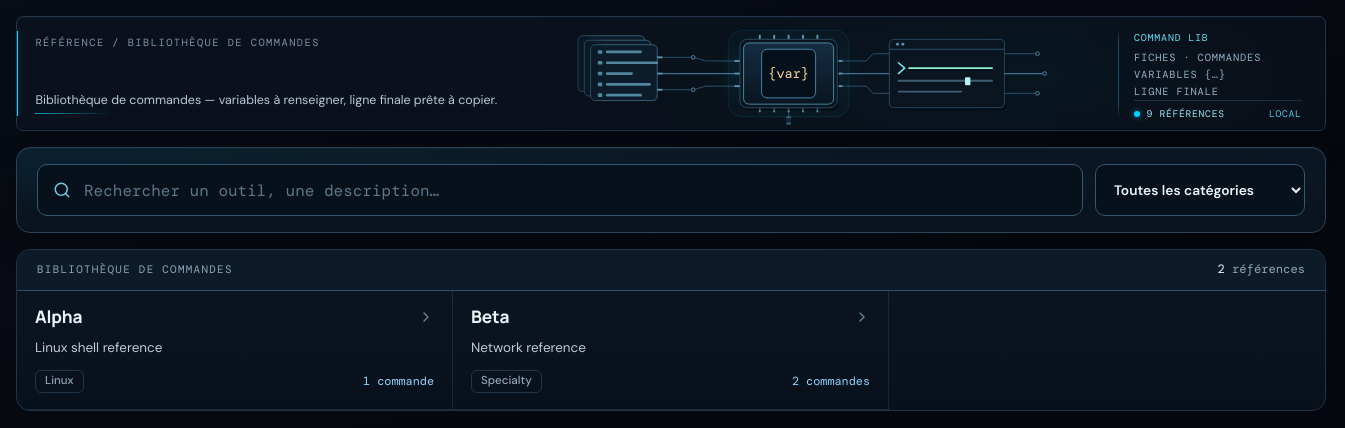
CheatsheetsPage › loads summaries, derives categories, filters and resets combined search/category state
Expected: the text "Alpha" is shown, [35,307,82,328]
Expected: the text "9 RÉFÉRENCES" is shown, [1134,108,1225,120]
Type "network" into the search field.
click(560, 190); type("network")  # box [37,164,1083,216]
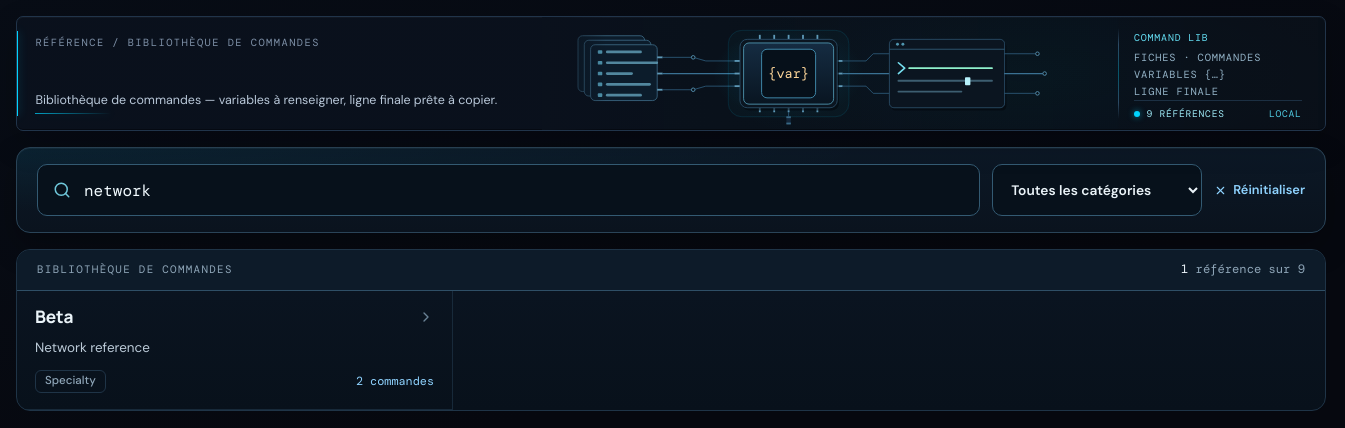
Select "Specialty" in the dropdown at (1097, 190), box [992,164,1202,216]
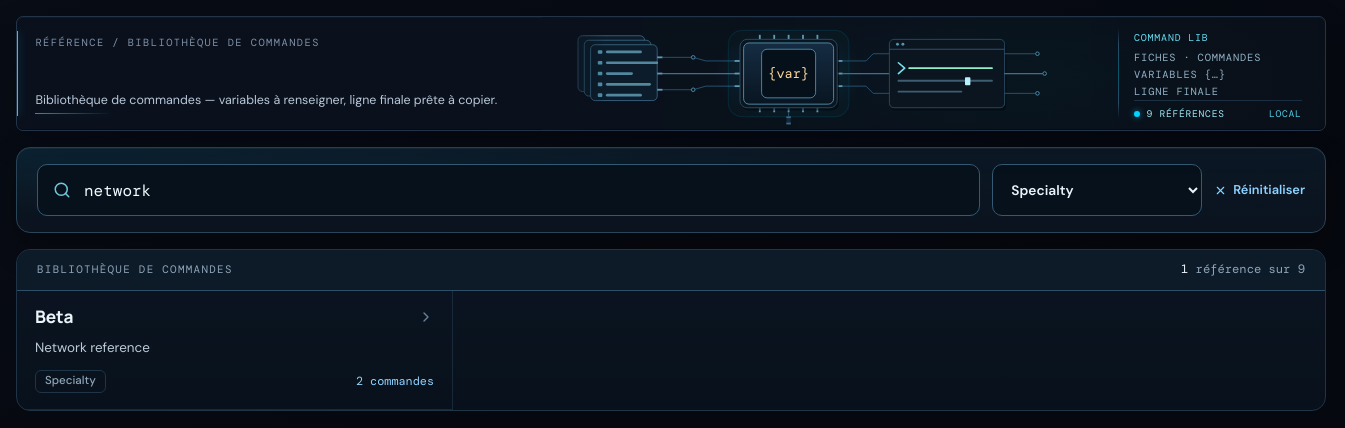
Expected: the text "Beta" is shown, [35,307,73,328]
Expected: the button "Alpha" is not shown
Click the button "Réinitialiser".
click(1260, 190)  # box [1214,182,1305,198]
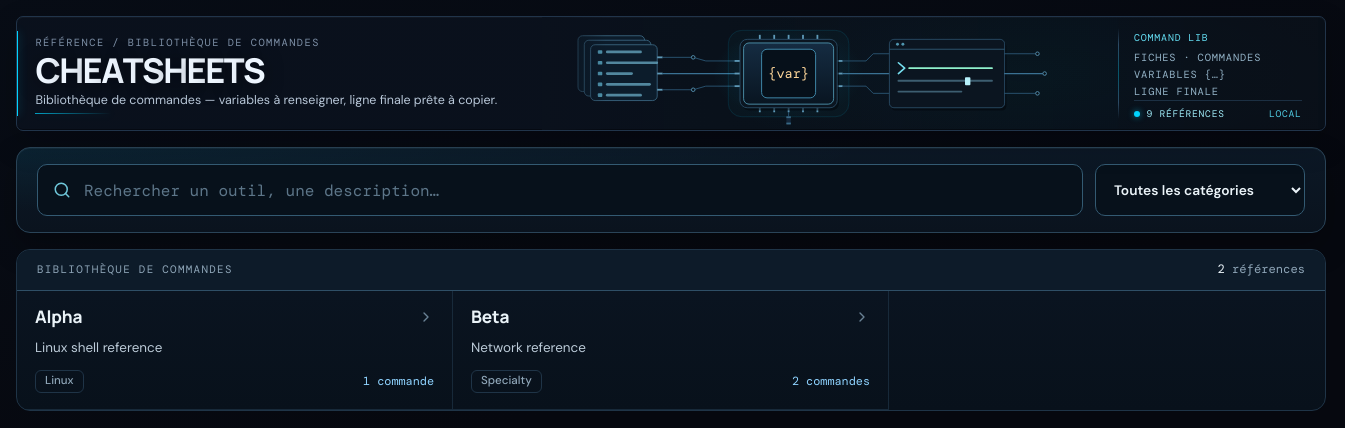
Expected: the text "Beta" is shown, [471,307,509,328]
Result: the text "Alpha" is shown at [35,307,82,328]
